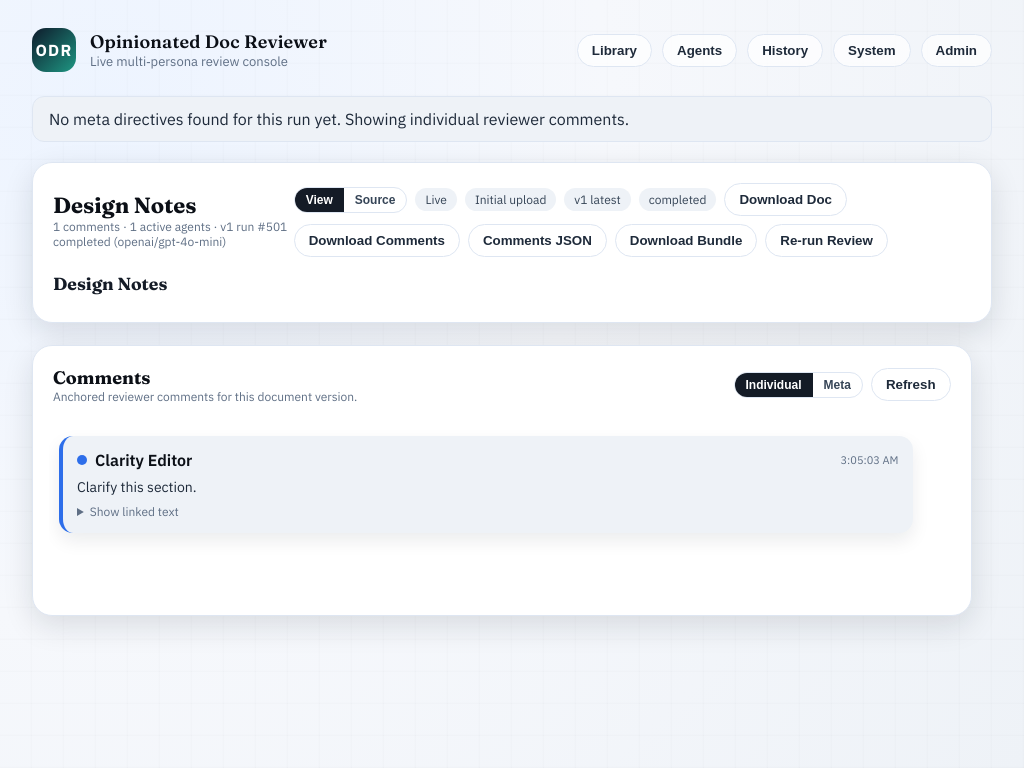
Scenario: page controls › refresh falls back to latest available comments when selected run is empty
Step 1. Click the button "Refresh" → [911, 385], box [871,368,950,401]
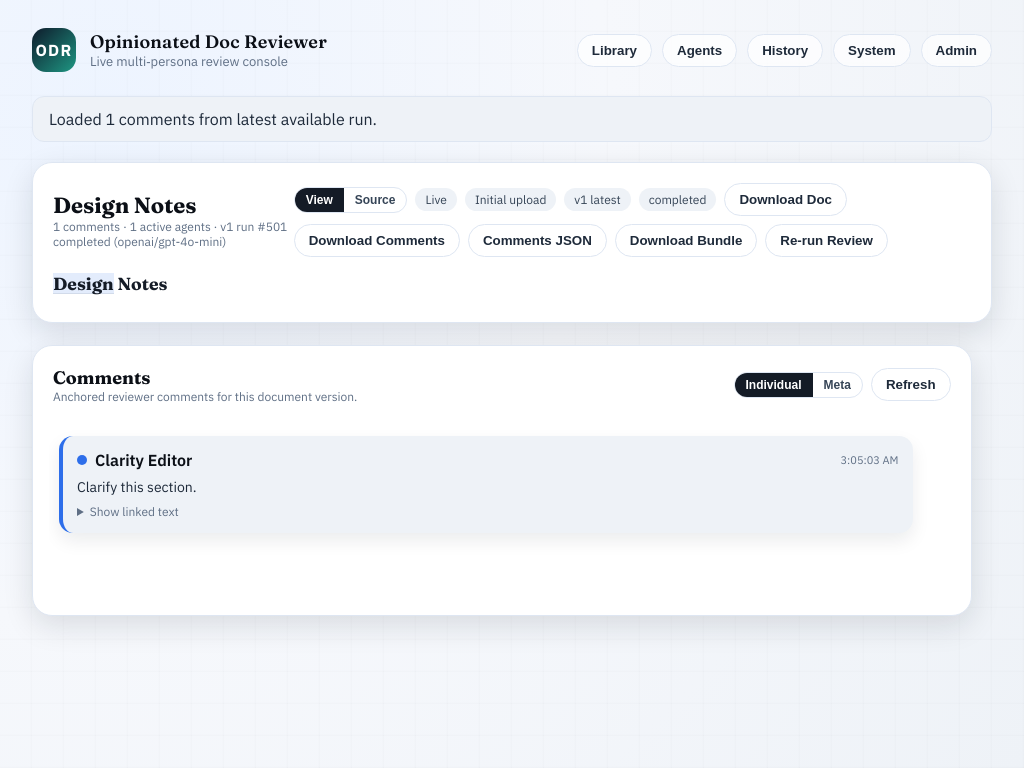
expect the text "Loaded 1 comments from latest available run." is shown: met, box [32,96,992,142]
